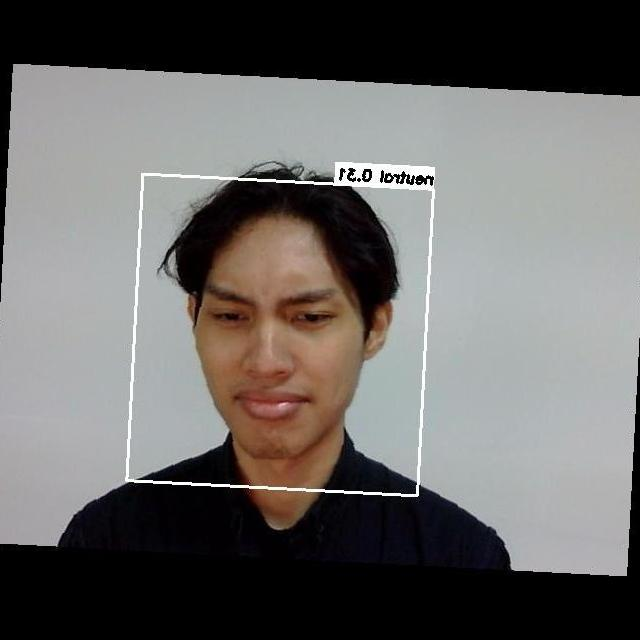Disgust: (194, 264, 363, 438)
